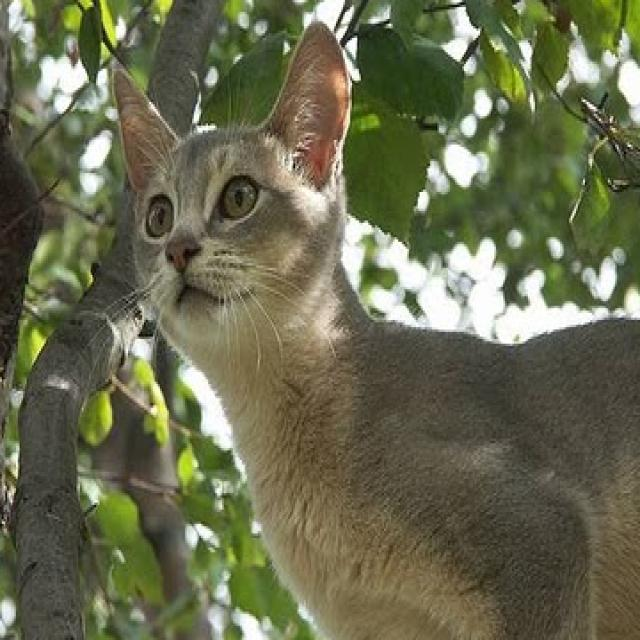Abyssinian: (110, 14, 640, 640)
